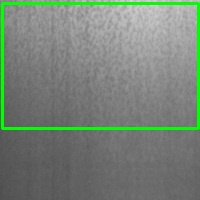pitted_surface: (2, 3, 198, 128)
